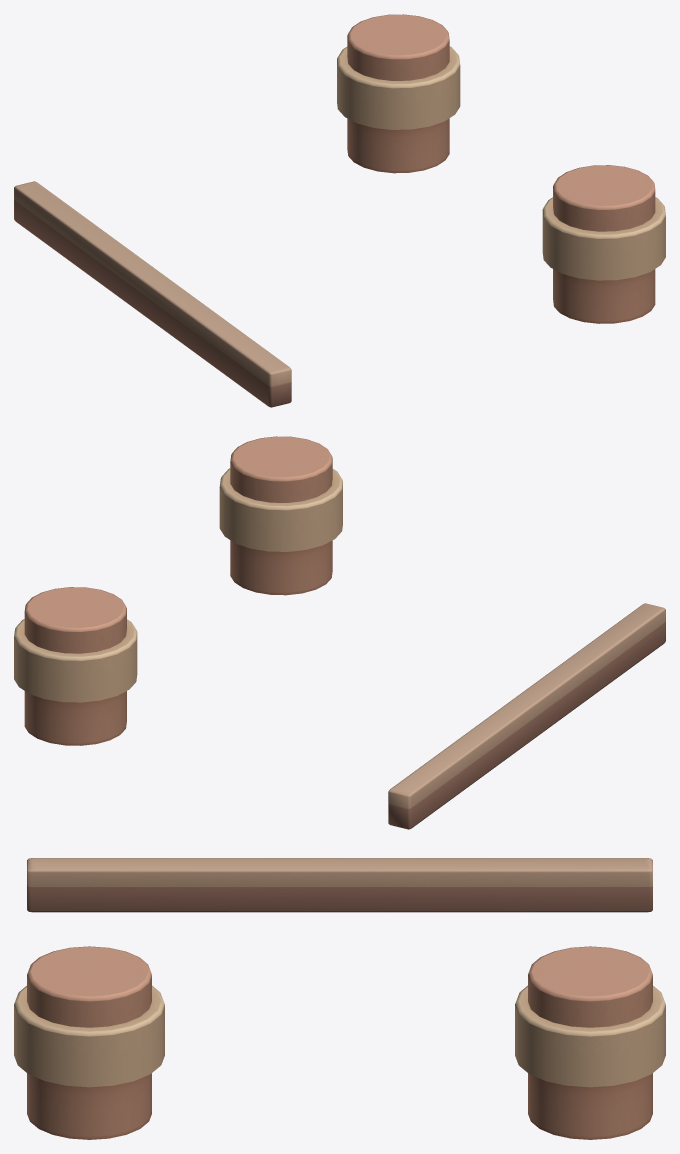
The model's file is Props.fbx.
3 renders of one model, top to bottom at view 1: azimuth 30°, elevation 25°; view 2: azimuth 150°, elevation 25°; view 3: azimuth 270°, elevation 25°, orthographic. The views are drawn at different scales.
Visible parts, largest first — view 1: Cylinder, Cylinder (1), Box20-3_1; view 2: Cylinder (1), Cylinder, Box20-3_1; view 3: Box20-3_1, Cylinder, Cylinder (1).
Part boxes in pixels (x1,y1,x2,y2): Cylinder: (542,165,665,323); Cylinder (1): (337,14,460,173); Box20-3_1: (14,181,291,407); Cylinder (1): (14,587,137,745); Cylinder: (219,436,342,595); Box20-3_1: (388,603,665,829); Box20-3_1: (27,858,652,912); Cylinder: (14,946,164,1139); Cylinder (1): (515,946,665,1139).
Bounding box in the file's own units: 18.56 × 5 × 20.82.
2 materials, 2 textured.
